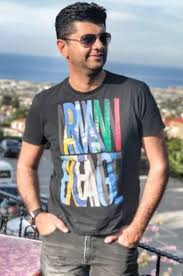middle_eastern_male: (64, 12, 114, 73)
